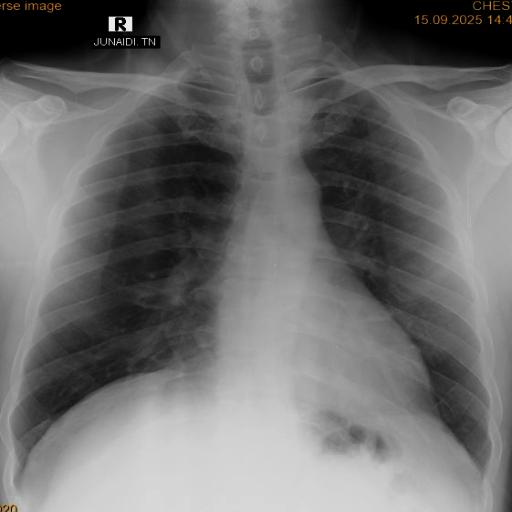kardiomegali: (4, 44, 506, 484)
